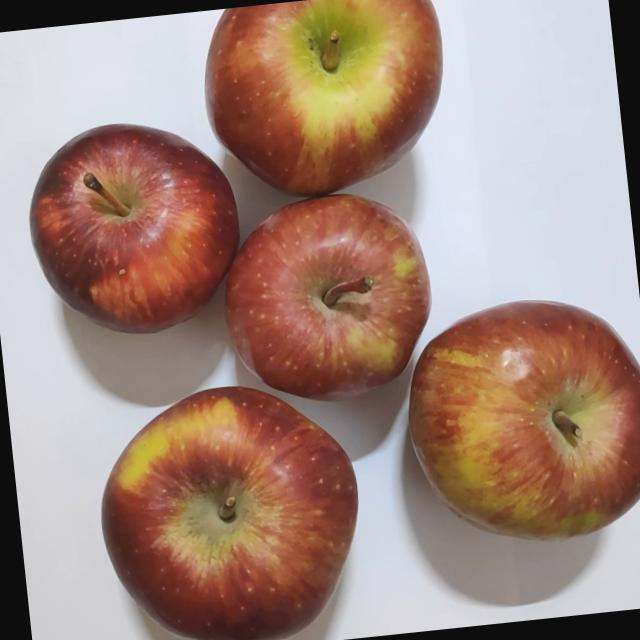apple: (91, 383, 383, 640), (391, 299, 640, 581), (193, 0, 472, 232), (22, 120, 264, 371), (211, 194, 458, 438)
